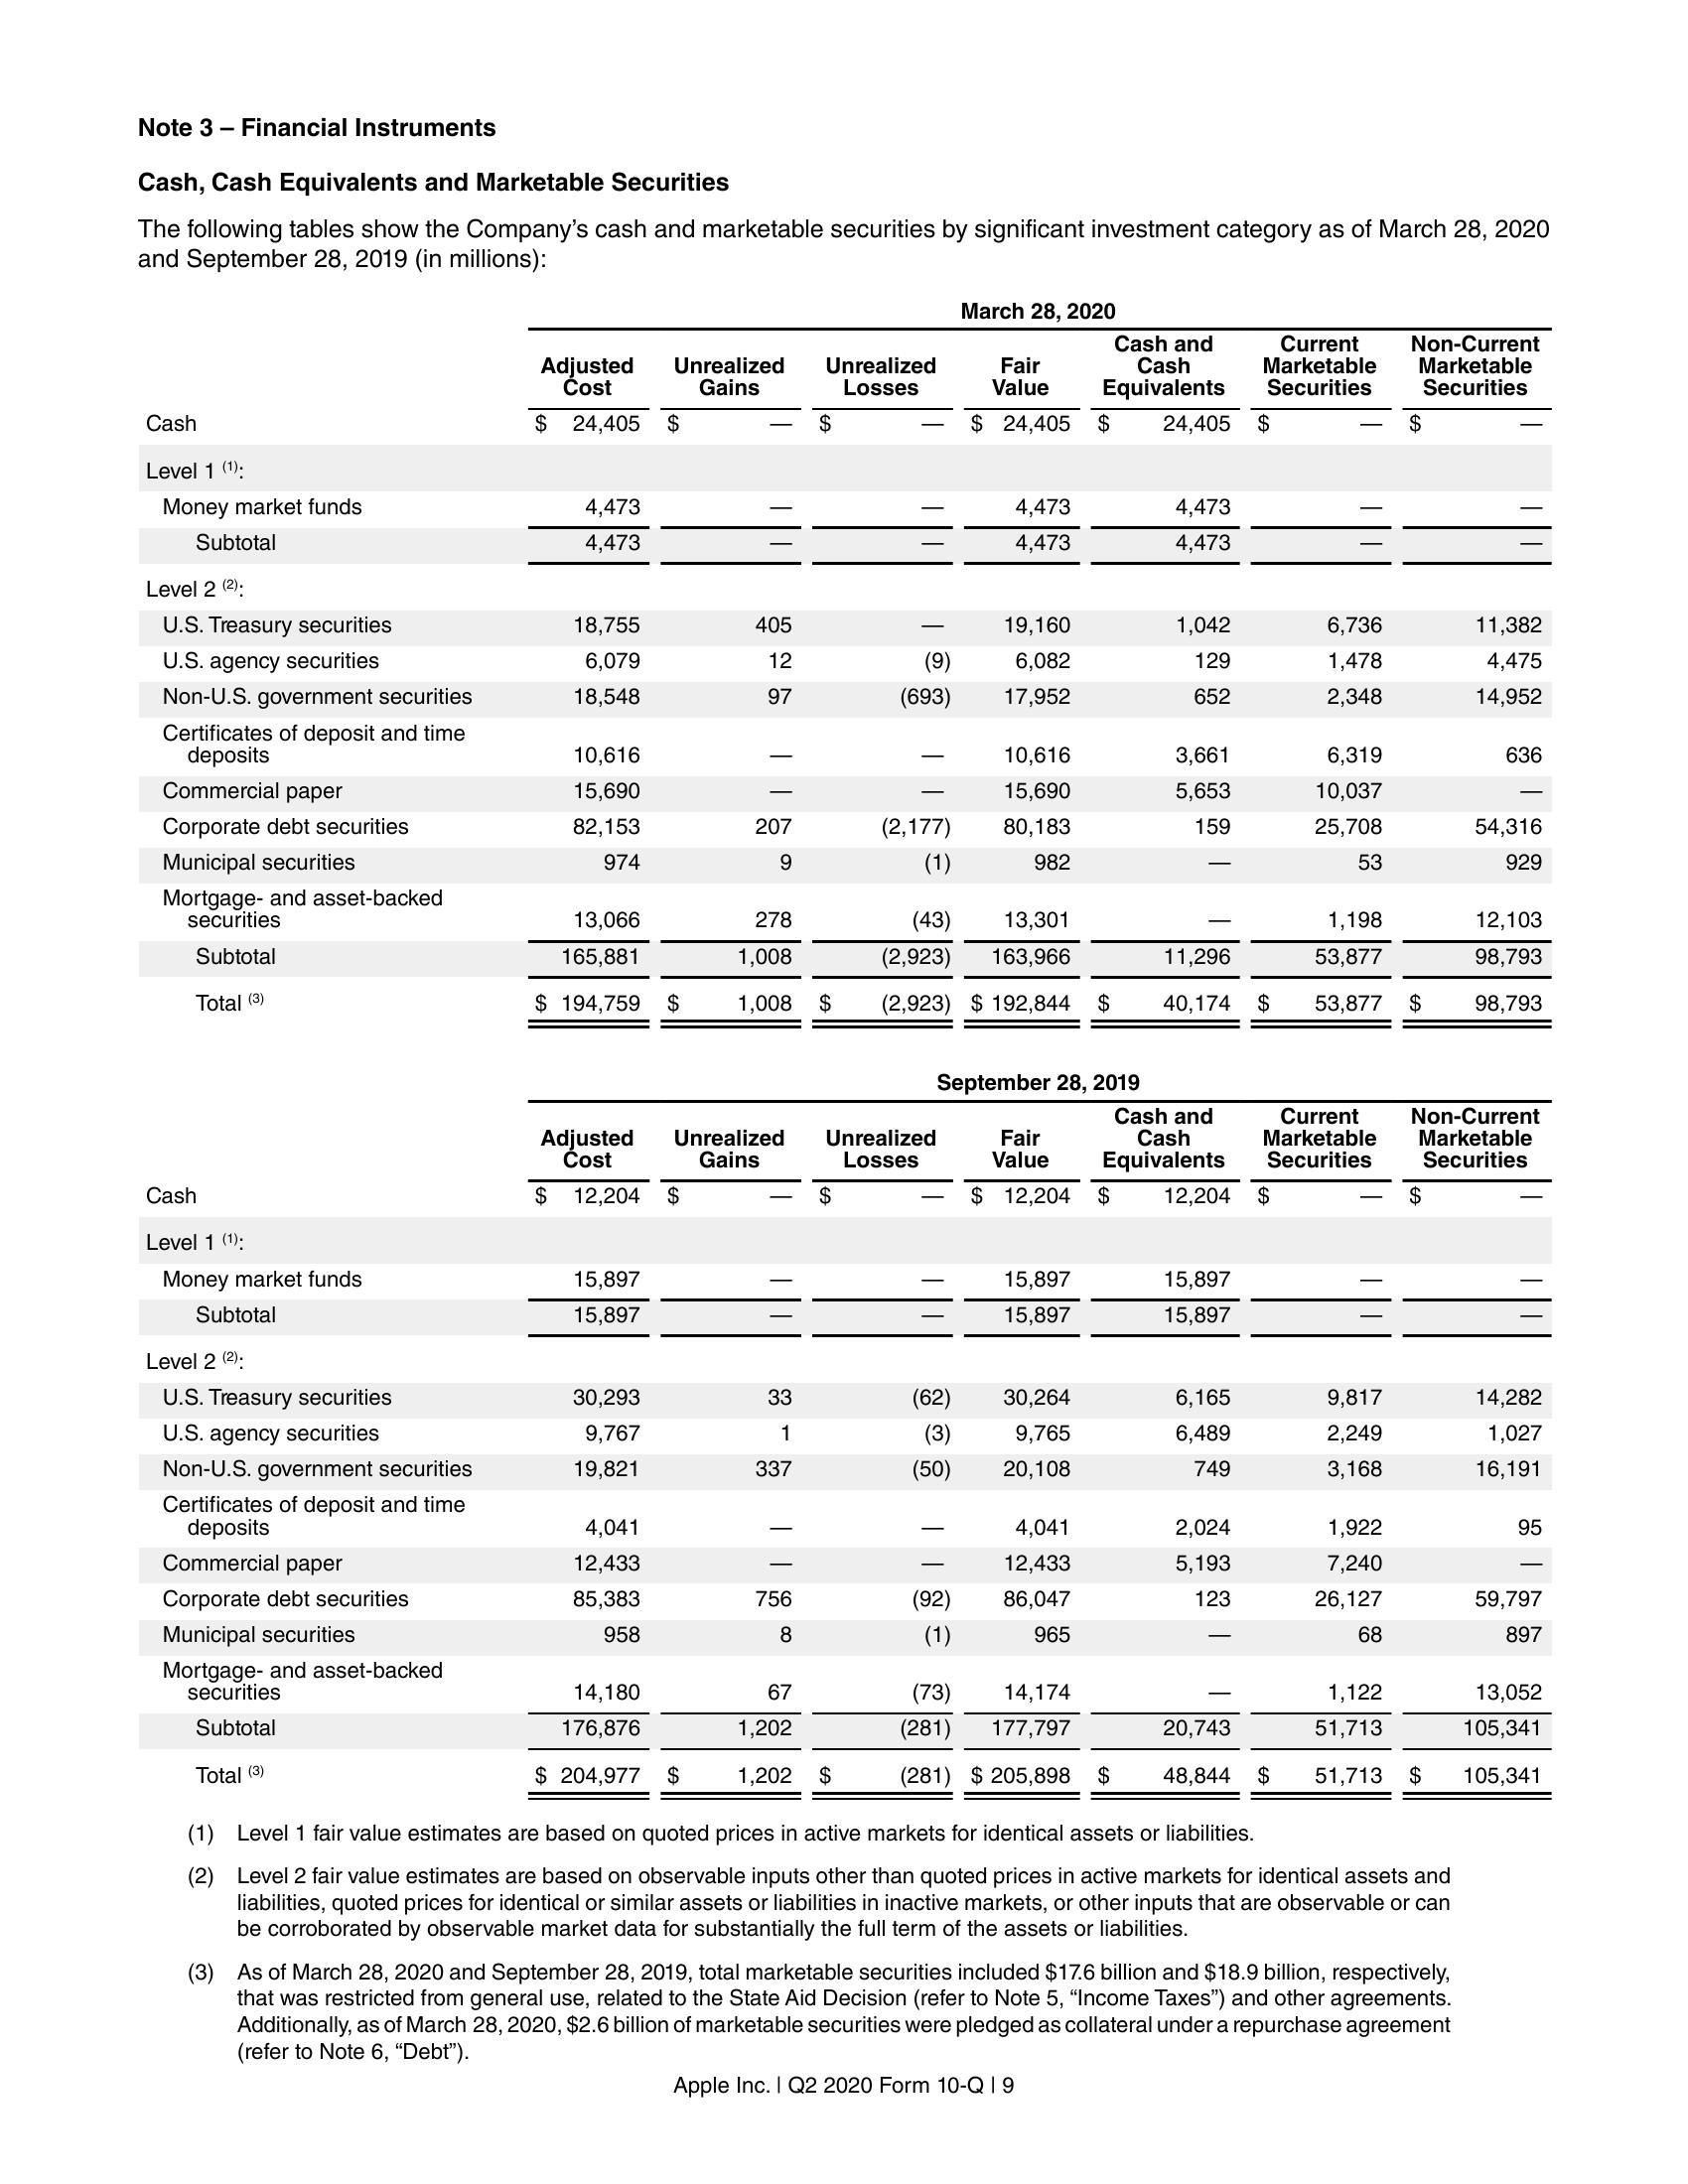table: (144, 1069, 1557, 1806), (135, 300, 1557, 1032)
